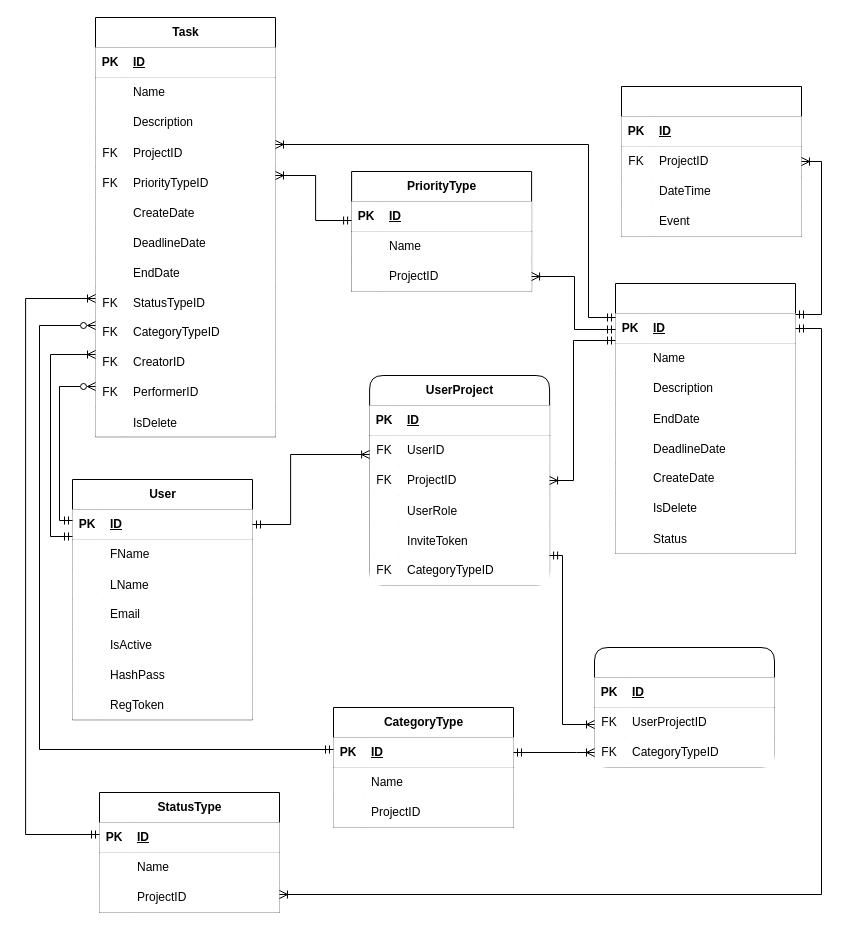
The diagram is 848 pixels wide and 930 high, and some of its shapes have lost their labels. The box of each missing label's shape, as (x1, y1, x2, y2) in pixels:
Log: (620, 86, 802, 236)
Project: (614, 282, 796, 554)
UserProjectCategory: (594, 646, 774, 768)
